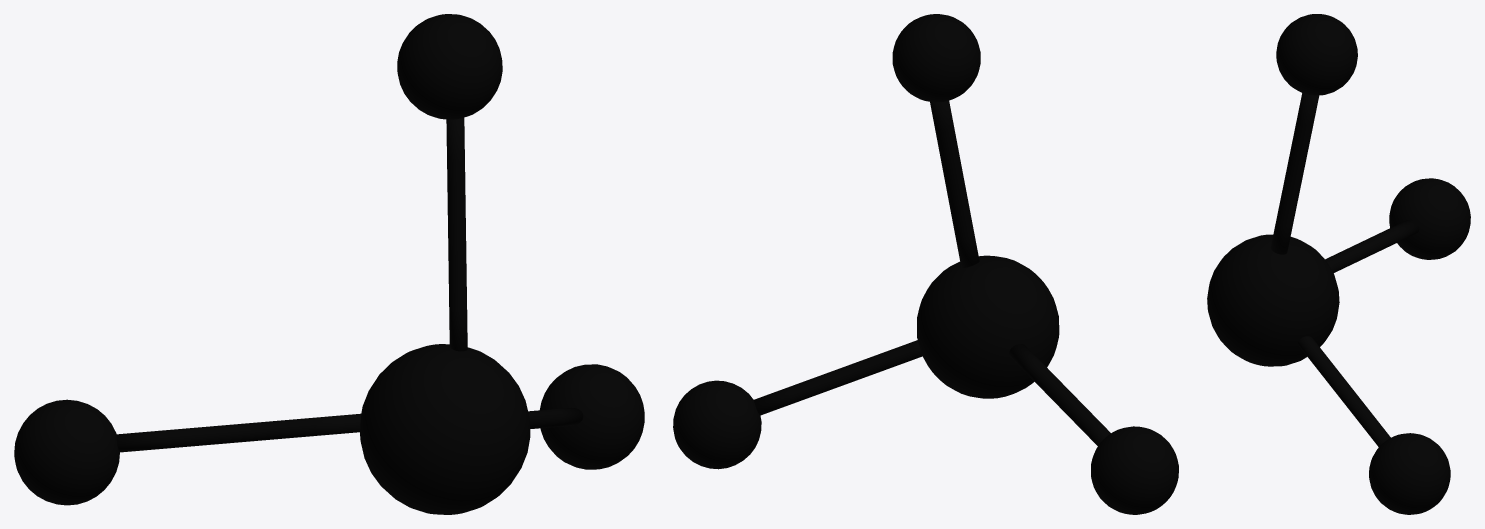
3 views of the same model, side by side, from view 1: azimuth 30°, elevation 25°; view 2: azimuth 150°, elevation 25°; view 3: azimuth 270°, elevation 25° (orthographic). The views are drawn at different scales.
Visible parts, largest first — view 1: node_id5, node_id11, node_id17, node_id23, node_id14, node_id8, node_id20; view 2: node_id5, node_id11, node_id17, node_id23, node_id8, node_id20, node_id14; view 3: node_id5, node_id23, node_id11, node_id17, node_id8, node_id20, node_id14.
Part boxes in pixels (left/top/right/bottom): node_id5: left=360, top=344, right=530, bottom=514; node_id11: left=397, top=14, right=502, bottom=119; node_id17: left=14, top=399, right=119, bottom=505; node_id23: left=540, top=364, right=644, bottom=469; node_id14: left=116, top=413, right=361, bottom=452; node_id8: left=446, top=117, right=467, bottom=351; node_id20: left=528, top=408, right=583, bottom=428; node_id5: left=917, top=255, right=1059, bottom=398; node_id11: left=892, top=14, right=980, bottom=102; node_id17: left=1091, top=426, right=1178, bottom=514; node_id23: left=673, top=380, right=761, bottom=469; node_id8: left=930, top=100, right=979, bottom=267; node_id20: left=754, top=340, right=922, bottom=415; node_id14: left=1009, top=344, right=1110, bottom=445; node_id5: left=1207, top=234, right=1339, bottom=366; node_id23: left=1369, top=433, right=1450, bottom=514; node_id11: left=1276, top=14, right=1357, bottom=95; node_id17: left=1389, top=178, right=1470, bottom=259; node_id8: left=1270, top=93, right=1319, bottom=254; node_id20: left=1298, top=336, right=1390, bottom=446; node_id14: left=1325, top=220, right=1419, bottom=272.
Bounding box in the file's own units: 0.5903 × 0.5041 × 0.289.
Materials: 7 (7 with a texture image).
